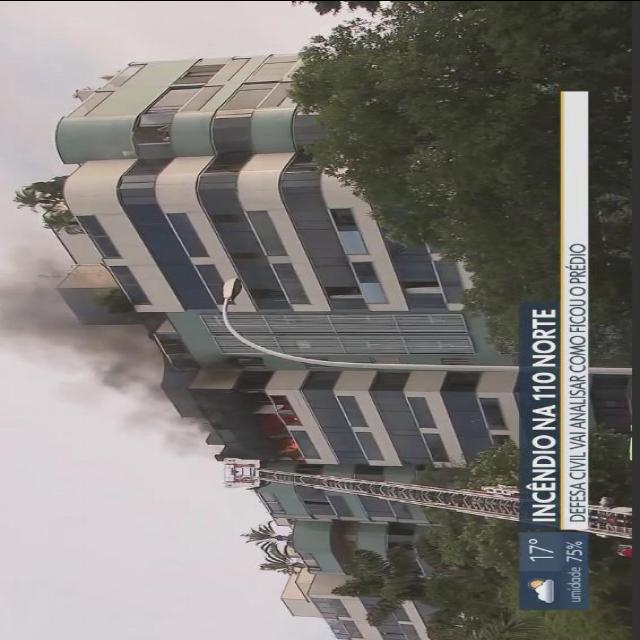Fire: (277, 440, 302, 460)
